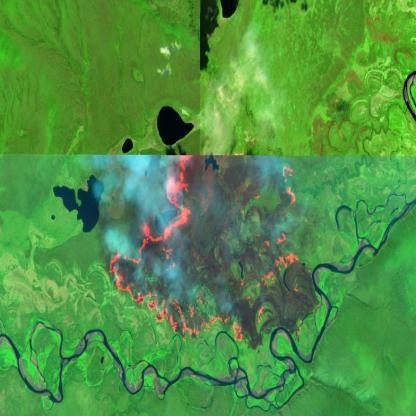fire: (102, 153, 308, 340)
